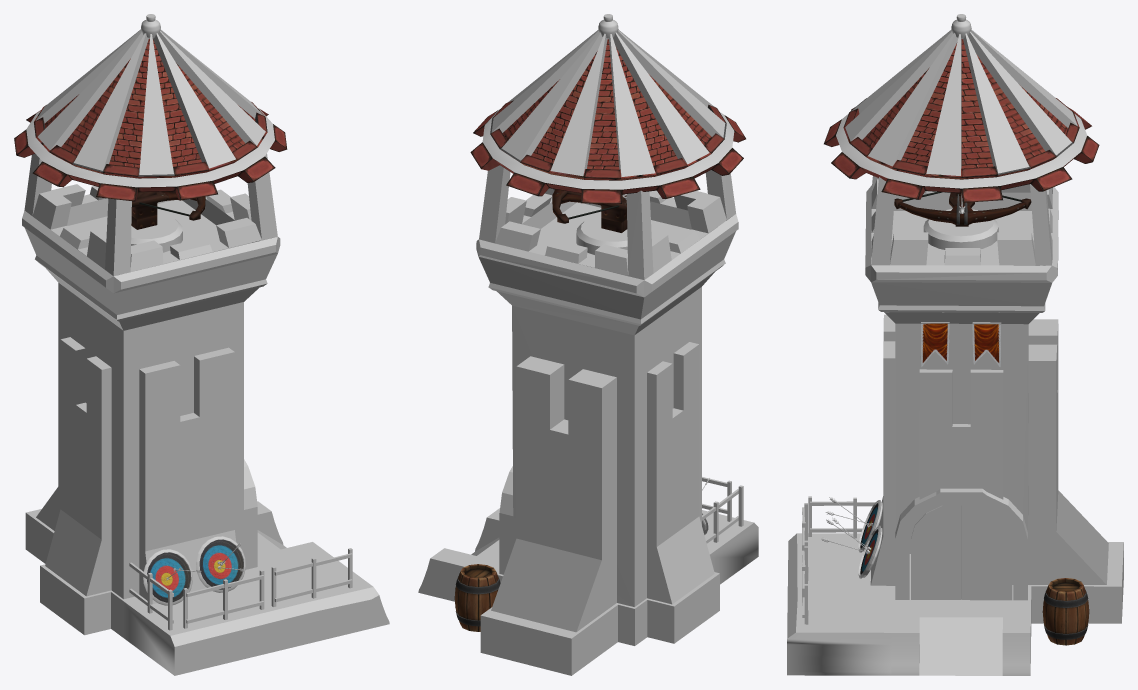
File: Arrow_Tower.fbx
3 views of the same model, side by side, from view 1: azimuth 30°, elevation 25°; view 2: azimuth 150°, elevation 25°; view 3: azimuth 270°, elevation 25° (orthographic).
Parts seen in each view (by area): view 1: polySurface29, polySurface35, pCone1, polySurface138, pCylinder5, pCylinder4, Crossbow2, Fence_a3, Fence_a2, pCylinder3, Fence_a4; view 2: polySurface35, polySurface29, pCone1, Barrel, Crossbow2, pCylinder3, Fence_a4; view 3: polySurface35, polySurface29, pCone1, polySurface33, polySurface34, polySurface30, polySurface138, Barrel, Crossbow2, pCylinder3, Human__Flag6, Human__Flag5 (+3 smaller).
Boxes of the visible parts, left/top/right/bottom form: polySurface29: left=22, top=153, right=280, bottom=599; polySurface35: left=25, top=337, right=389, bottom=675; pCone1: left=14, top=29, right=287, bottom=201; polySurface138: left=139, top=347, right=236, bottom=603; pCylinder5: left=196, top=536, right=245, bottom=592; pCylinder4: left=143, top=549, right=192, bottom=605; Crossbow2: left=131, top=191, right=205, bottom=229; Fence_a3: left=271, top=548, right=352, bottom=607; Fence_a2: left=183, top=569, right=264, bottom=628; pCylinder3: left=131, top=212, right=182, bottom=252; Fence_a4: left=129, top=562, right=173, bottom=630; polySurface35: left=418, top=342, right=758, bottom=675; polySurface29: left=476, top=165, right=738, bottom=606; pCone1: left=470, top=29, right=745, bottom=203; Barrel: left=454, top=564, right=500, bottom=631; Crossbow2: left=552, top=189, right=627, bottom=232; pCylinder3: left=576, top=215, right=651, bottom=254; Fence_a4: left=702, top=485, right=743, bottom=543; polySurface35: left=787, top=319, right=1123, bottom=675; polySurface29: left=865, top=176, right=1058, bottom=538; pCone1: left=824, top=29, right=1099, bottom=202; polySurface33: left=961, top=505, right=1012, bottom=600; polySurface34: left=911, top=503, right=961, bottom=599; polySurface30: left=895, top=492, right=1027, bottom=600; polySurface138: left=870, top=314, right=895, bottom=585; Barrel: left=1042, top=578, right=1089, bottom=645; Crossbow2: left=894, top=192, right=1031, bottom=226; pCylinder3: left=923, top=209, right=998, bottom=249; Human__Flag6: left=972, top=322, right=1001, bottom=366; Human__Flag5: left=920, top=322, right=949, bottom=366.
Bounding box in the file's own units: 4.78 × 9.76 × 5.09.
